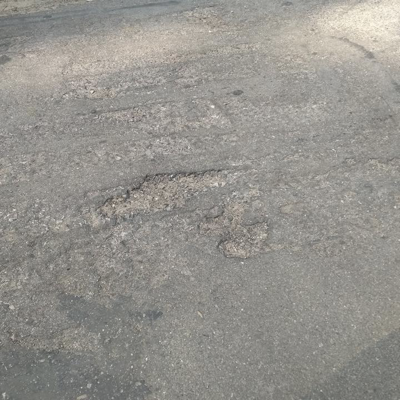pothole: (97, 168, 239, 220), (217, 220, 272, 260)
